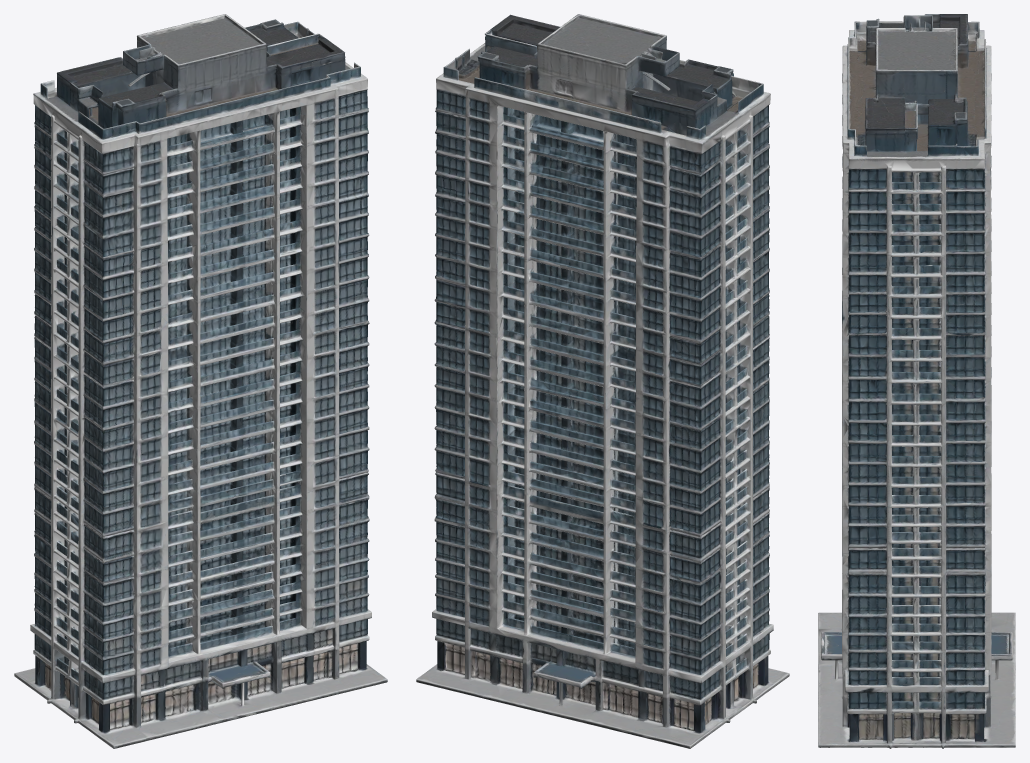
The model's file is skyline-tower.glb.
3 views of the same model, side by side, from view 1: azimuth 30°, elevation 25°; view 2: azimuth 150°, elevation 25°; view 3: azimuth 270°, elevation 25° (orthographic).
Size of the model in its own units: 0.8727 by 1.9 by 0.5379.
Materials: 1 (1 with a texture image).
